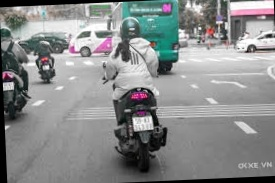Bien-so: (133, 119, 155, 138), (9, 91, 19, 101), (45, 73, 52, 79)
